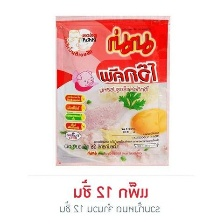snack: (47, 7, 177, 172)
